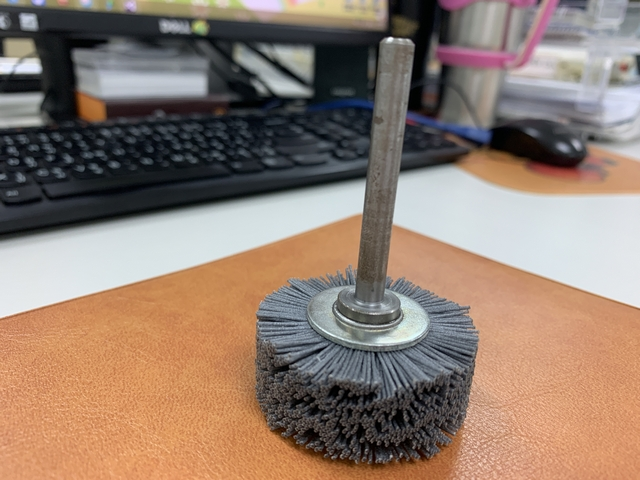Wheel Brush: (267, 35, 463, 460), (287, 47, 482, 472)
